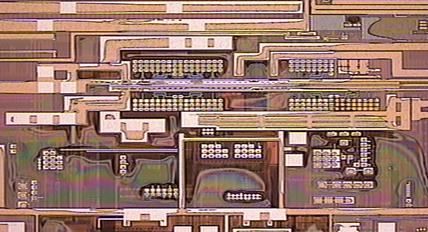COATING BAD: (1, 15, 428, 219)
